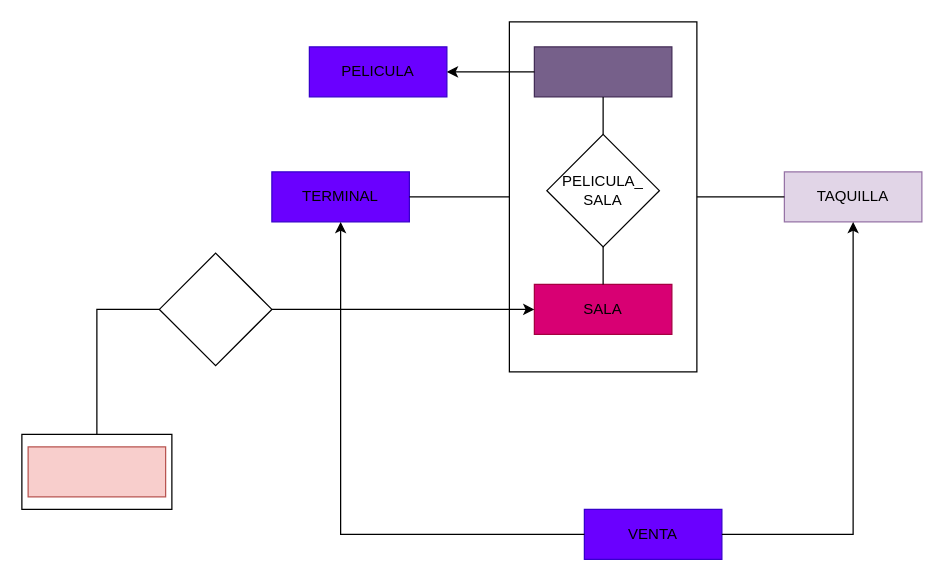
The diagram is 944 pixels wide and 581 high, and some of its shapes have lost their labels. Here are the shapes that lost their labels. From the top down, the box of each, then its label:
(533, 46, 672, 97): PROYECCION
(158, 252, 272, 366): BITACORA
(27, 446, 166, 497): ASIENTO
